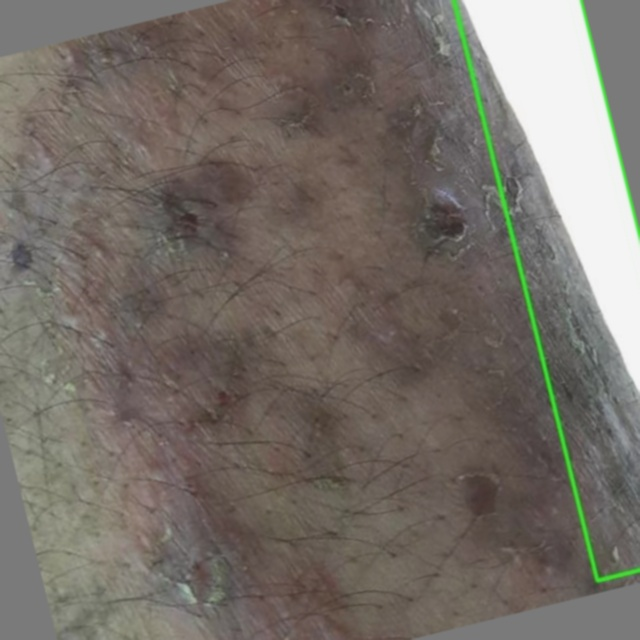Tinea Corporis: (453, 0, 639, 580)
